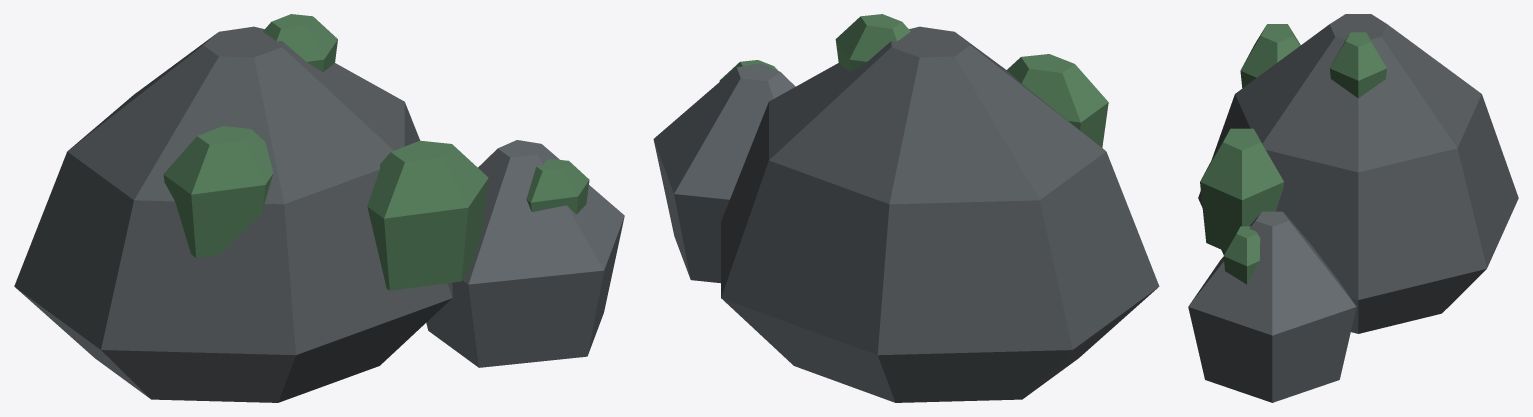
The model's file is adamantOre.glb.
The picture shows the model from 3 angles, left to right: view 1: azimuth 30°, elevation 25°; view 2: azimuth 150°, elevation 25°; view 3: azimuth 270°, elevation 25°; orthographic projection. The views are drawn at different scales.
Visible parts, largest first — view 1: adamantOre; view 2: adamantOre; view 3: adamantOre.
Part boxes in pixels (<box>): adamantOre: <box>14,14,624,402</box>; adamantOre: <box>653,14,1159,402</box>; adamantOre: <box>1188,14,1518,402</box>.
Bounding box in the file's own units: 1 × 0.587 × 0.676.
